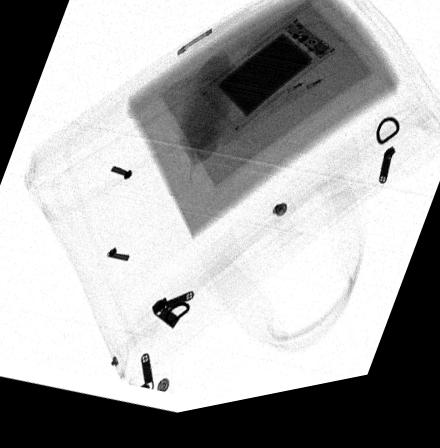Powerbank: (199, 27, 335, 141)
